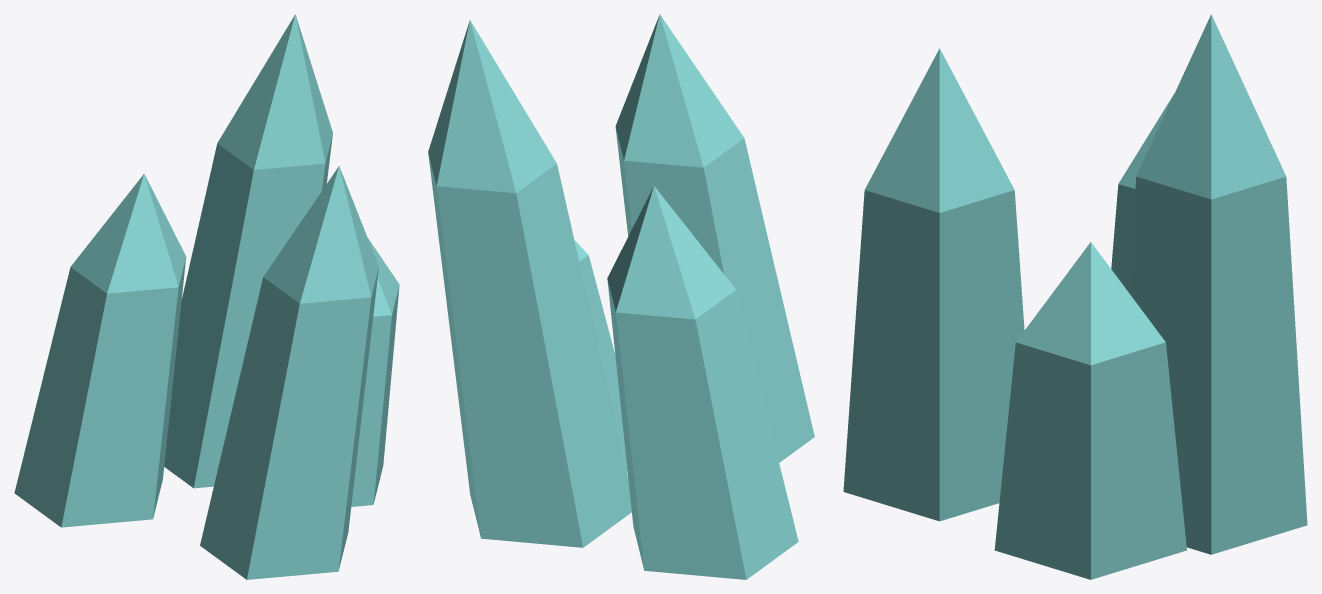
Rendered from payload_raw_silicate_a.obj.
3 renders of one model, left to right at view 1: azimuth 30°, elevation 25°; view 2: azimuth 150°, elevation 25°; view 3: azimuth 270°, elevation 25°, orthographic. The views are drawn at different scales.
Parts seen in each view (by area): view 1: cleaved_mineral.021, cleaved_mineral.020, cleaved_mineral.022, cleaved_mineral.019; view 2: cleaved_mineral.022, cleaved_mineral.020, cleaved_mineral.021, cleaved_mineral.019; view 3: cleaved_mineral.022, cleaved_mineral.021, cleaved_mineral.019, cleaved_mineral.020.
Part boxes in pixels (left/top/right/bottom): cleaved_mineral.021: left=200, top=166, right=378, bottom=579; cleaved_mineral.020: left=14, top=174, right=186, bottom=527; cleaved_mineral.022: left=164, top=14, right=332, bottom=488; cleaved_mineral.019: left=351, top=237, right=399, bottom=506; cleaved_mineral.022: left=428, top=20, right=631, bottom=547; cleaved_mineral.020: left=607, top=186, right=798, bottom=579; cleaved_mineral.021: left=615, top=14, right=814, bottom=462; cleaved_mineral.019: left=574, top=240, right=627, bottom=471; cleaved_mineral.022: left=1129, top=14, right=1307, bottom=554; cleaved_mineral.021: left=843, top=48, right=1024, bottom=521; cleaved_mineral.019: left=994, top=242, right=1186, bottom=579; cleaved_mineral.020: left=1111, top=93, right=1174, bottom=292.
Bounding box in the file's own units: 0.465 × 0.59 × 0.4587.
